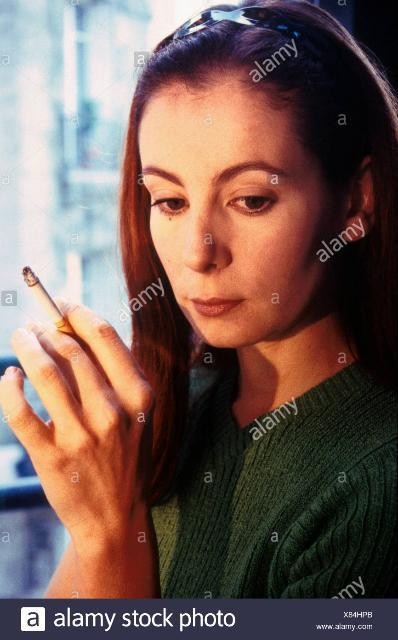SafeDriving: (217, 175, 282, 220), (144, 176, 198, 222)
Smoking: (19, 268, 74, 338)
